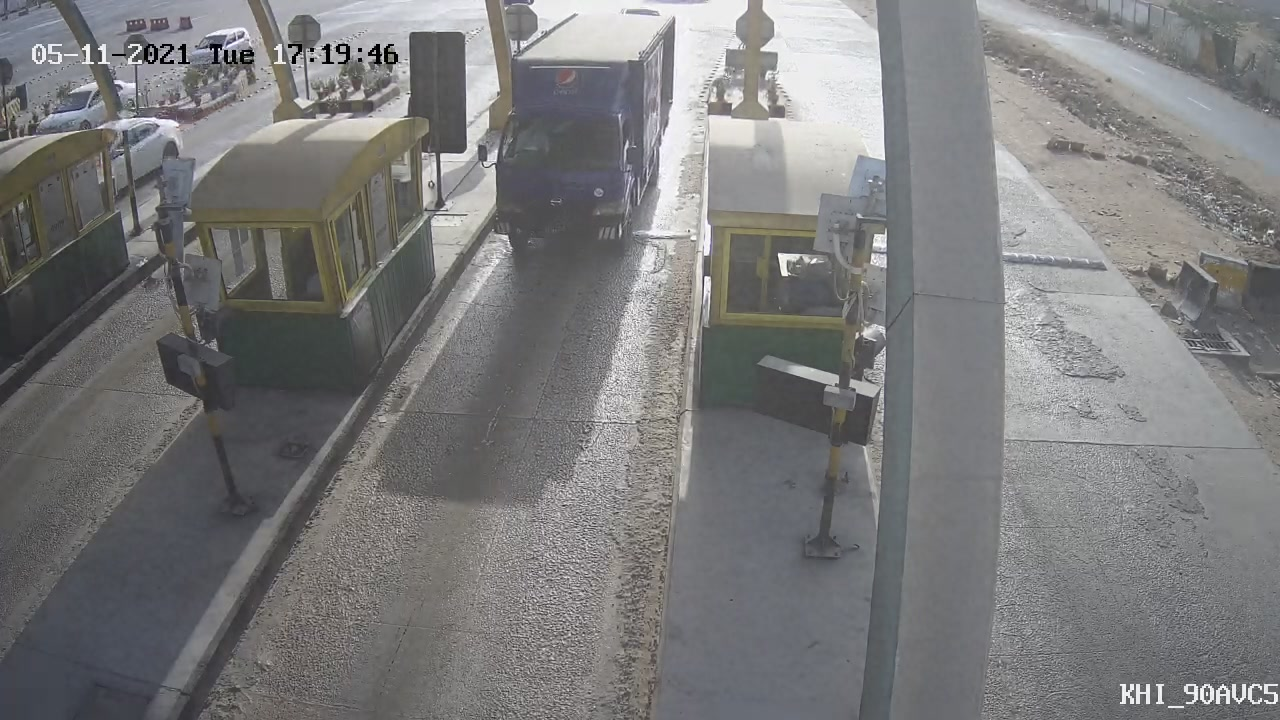F5: (468, 5, 692, 282)
